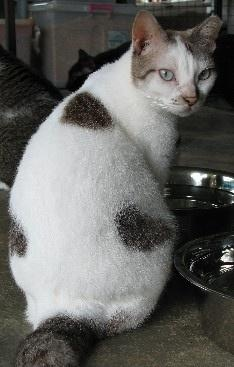cat: (7, 10, 220, 367), (67, 39, 136, 92)
